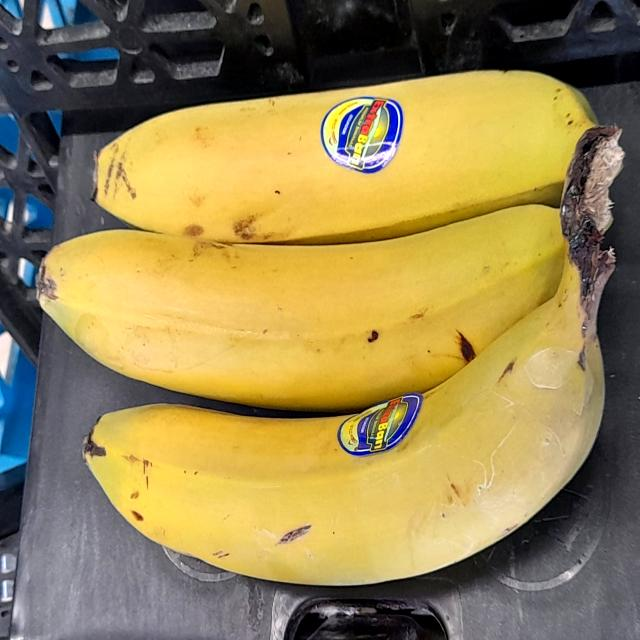banana: (76, 219, 627, 578), (85, 35, 622, 248)
